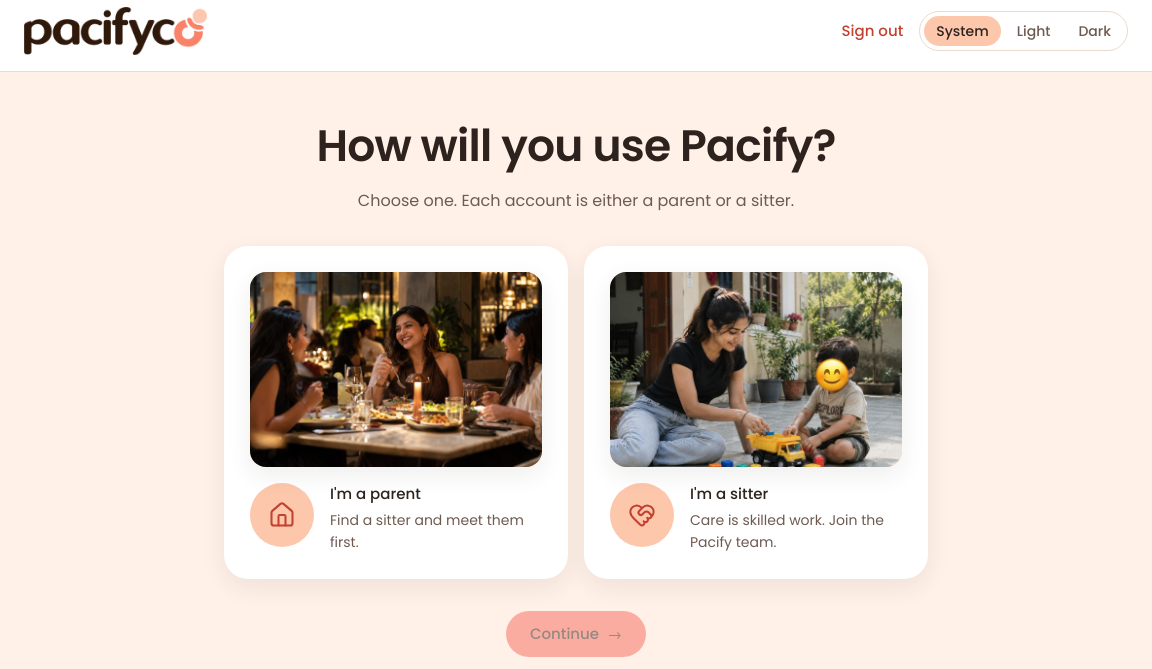
Scenario: joining after the first sign-in › Go back returns to the role choice without creating anything
The image size is (1152, 669).
Click the button "I'm a parent Find a sitter and meet them first.".
click(396, 412)  # box [224,246,568,579]
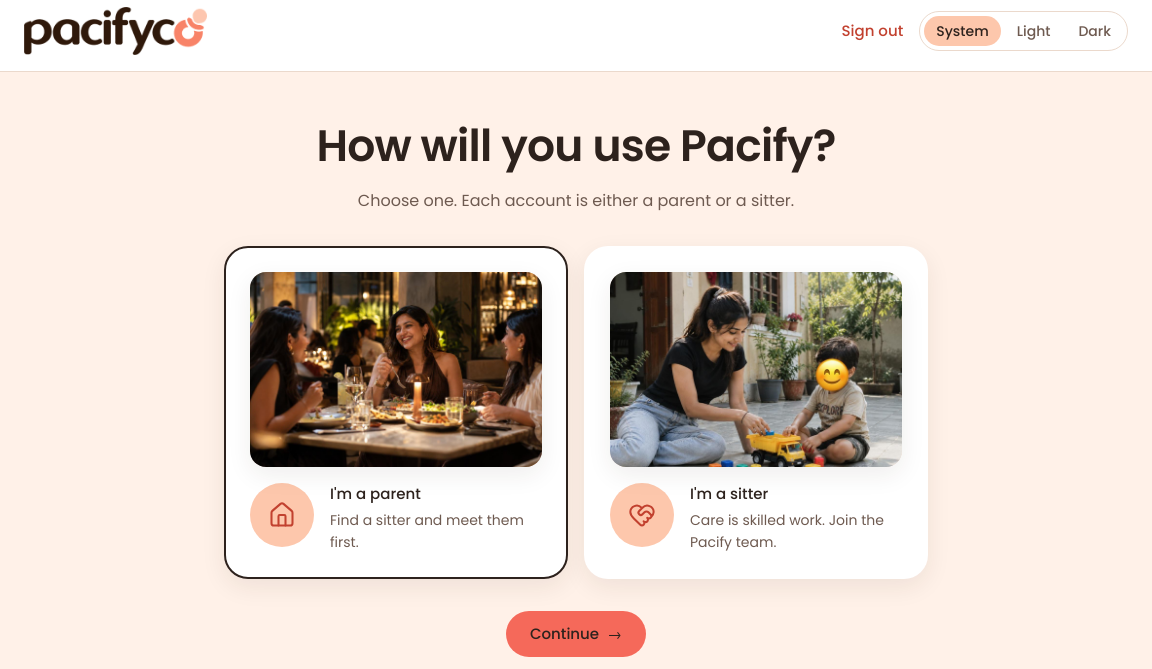
Click the button "Continue →".
click(576, 634)  # box [506,611,646,657]
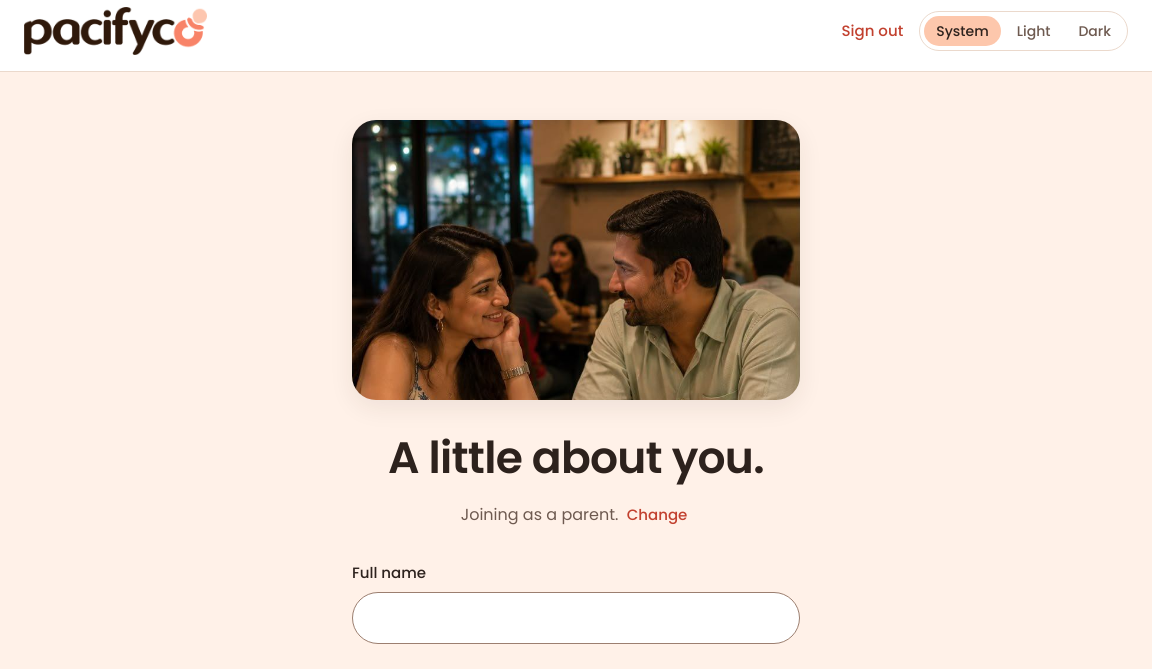
Type "Asha K" into the field labelled "Full name".
click(576, 618); type("Asha K")  # box [352,592,800,644]
(page scrolled)
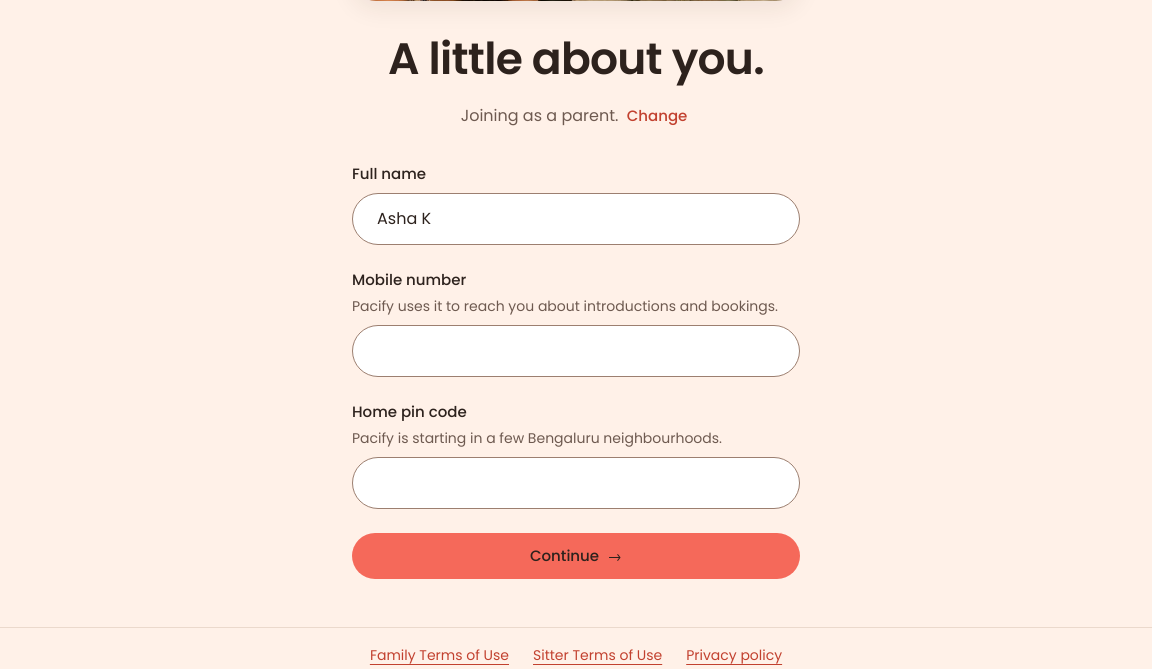
Type "9876543210" into the field labelled "Mobile number".
click(576, 351); type("9876543210")  # box [352,325,800,377]
Type "560034" into the field labelled "Home pin code".
click(576, 483); type("560034")  # box [352,457,800,509]
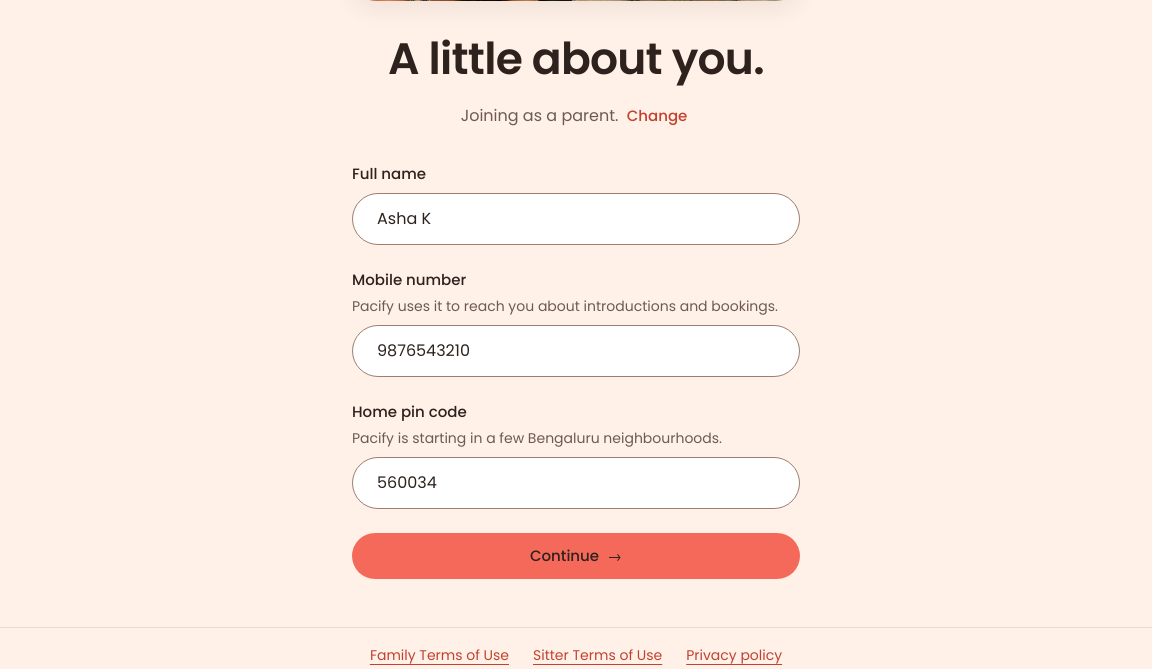
Click the button "Continue →".
click(576, 556)  # box [352,533,800,579]
(page scrolled)
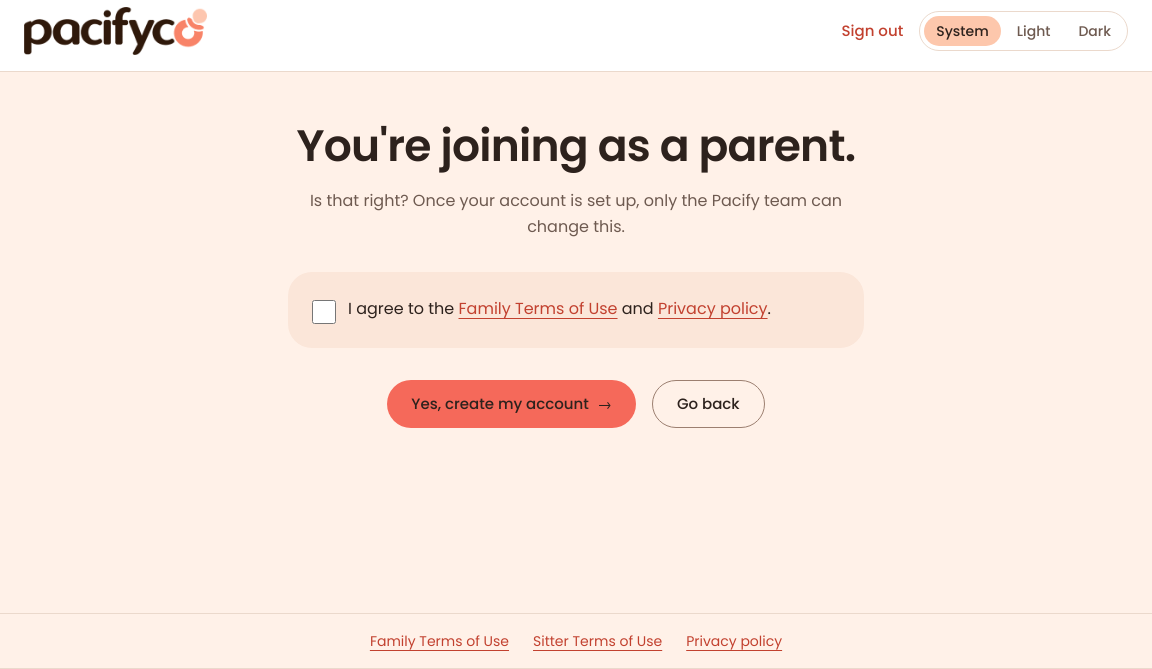
Click the button "Go back".
click(708, 404)  # box [652,380,765,428]
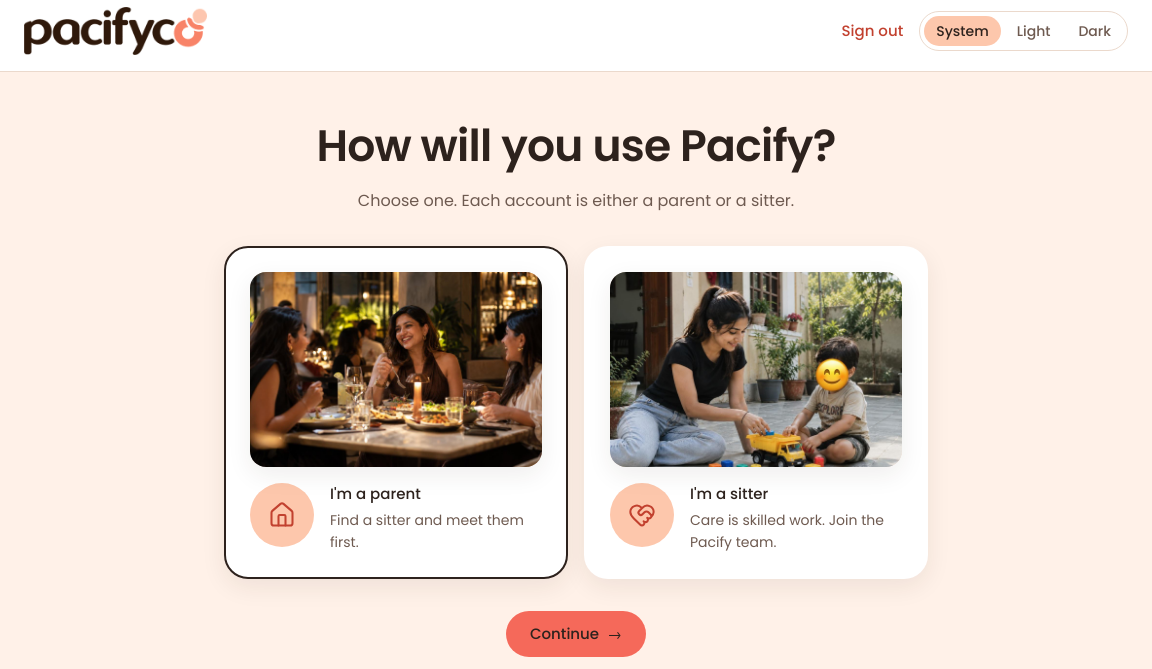
Expected: the heading "How will you use Pacify?" is shown, [316,115,836,176]
